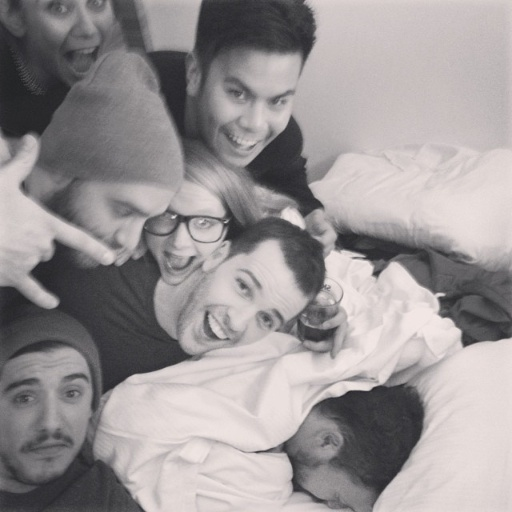hand: (0, 133, 115, 309), (291, 299, 348, 359), (304, 209, 339, 257)
